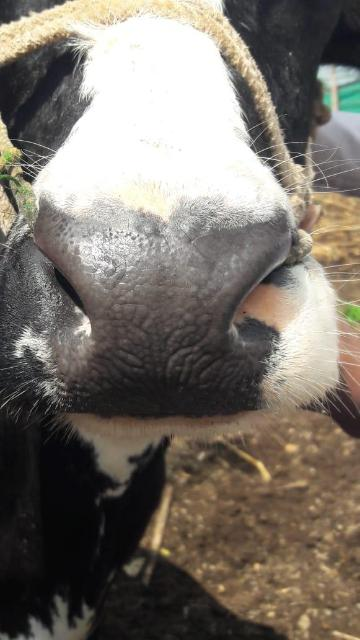Muzzle: (20, 200, 280, 406)
